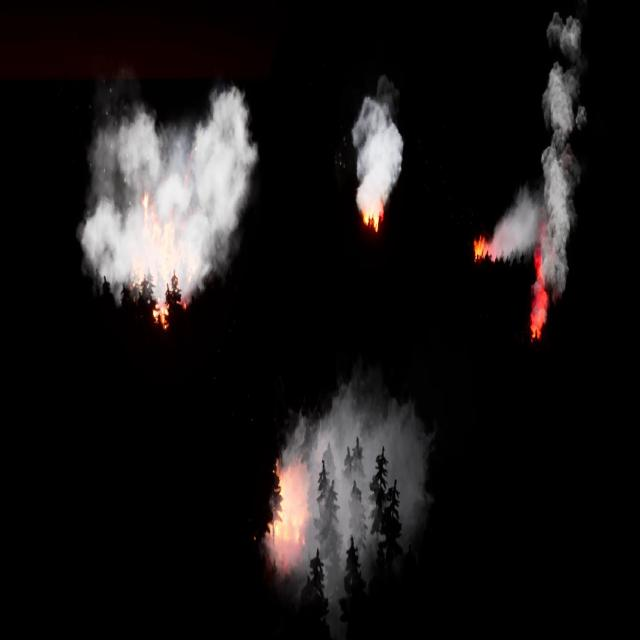fire: (127, 193, 195, 335), (262, 455, 309, 579), (532, 274, 553, 340), (359, 200, 385, 231), (471, 231, 487, 268)
smoke: (77, 80, 257, 330), (264, 395, 430, 613), (493, 0, 588, 311), (350, 94, 403, 219)
